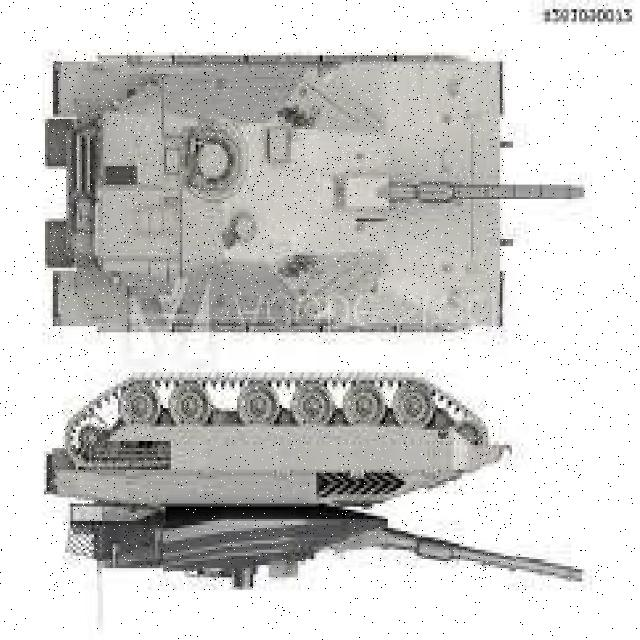MIL_MBT: (49, 51, 506, 337), (44, 376, 516, 589)
